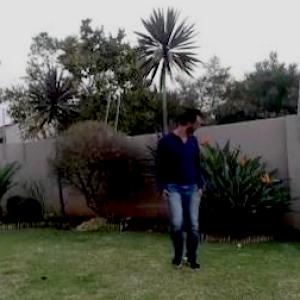follow: (153, 97, 212, 280)
